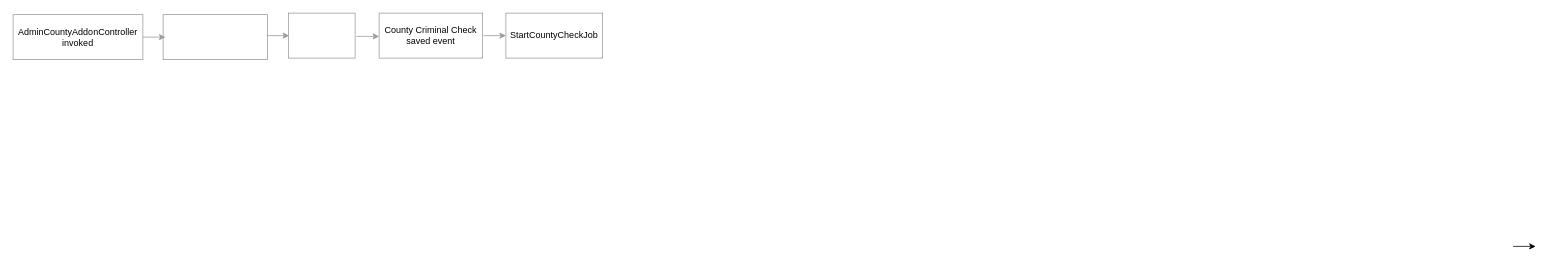
Image size: 1555x266. Some labels were removed from this diagram. The shapes that lost their labels are listed below. From the top down, each one's centre as x and y in pixels, then its label:
At (214,37): "Request 'charge' = true".
At (321,35): "OrderCounties".
